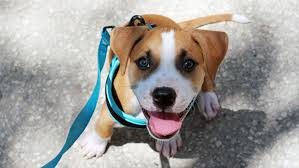dog: (89, 2, 258, 149)
